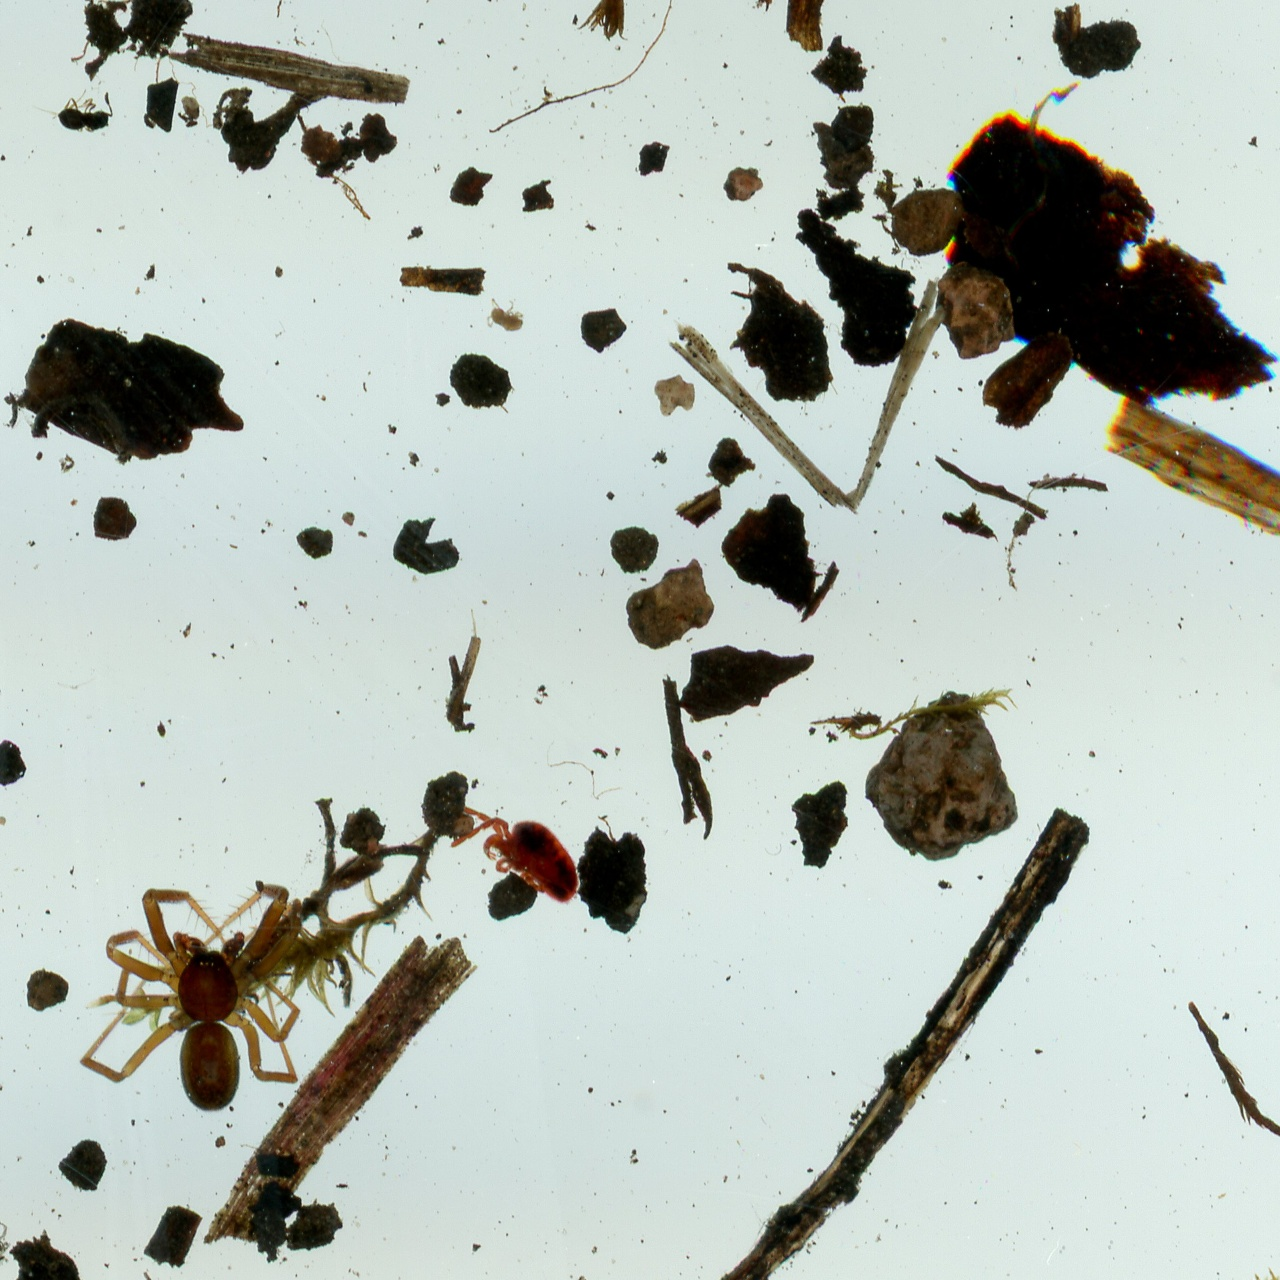arthropod: (75, 880, 305, 1116), (445, 797, 581, 910), (30, 89, 117, 138), (484, 294, 525, 335)
